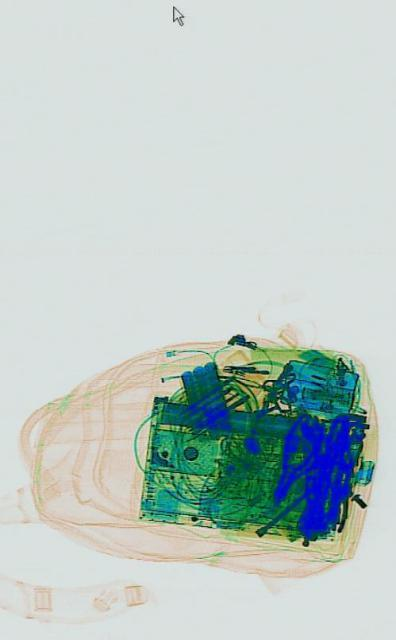Pliers: (259, 402, 328, 518)
